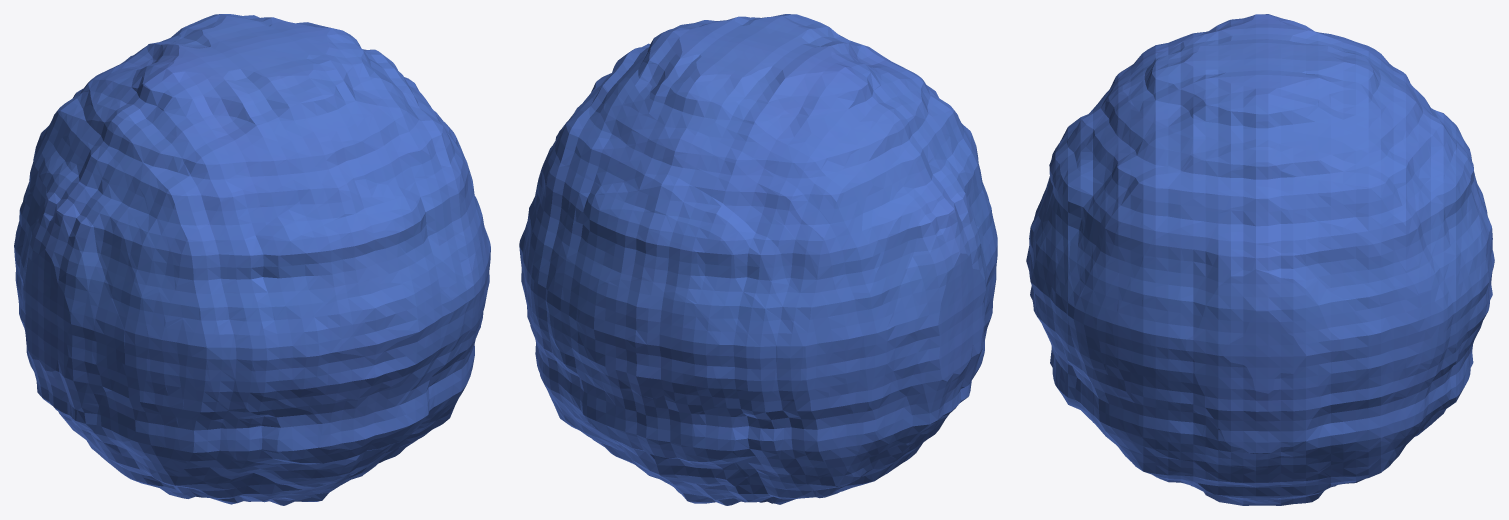
3 views of the same model, side by side, from view 1: azimuth 30°, elevation 25°; view 2: azimuth 150°, elevation 25°; view 3: azimuth 270°, elevation 25° (orthographic).
Visible parts, largest first — view 1: geometry_0; view 2: geometry_0; view 3: geometry_0.
Boxes of the visible parts, <box> form: geometry_0: <box>14,14,490,505</box>; geometry_0: <box>519,14,997,505</box>; geometry_0: <box>1026,14,1494,505</box>.
Size of the model in its own units: 1.59 by 1.6 by 1.59.
